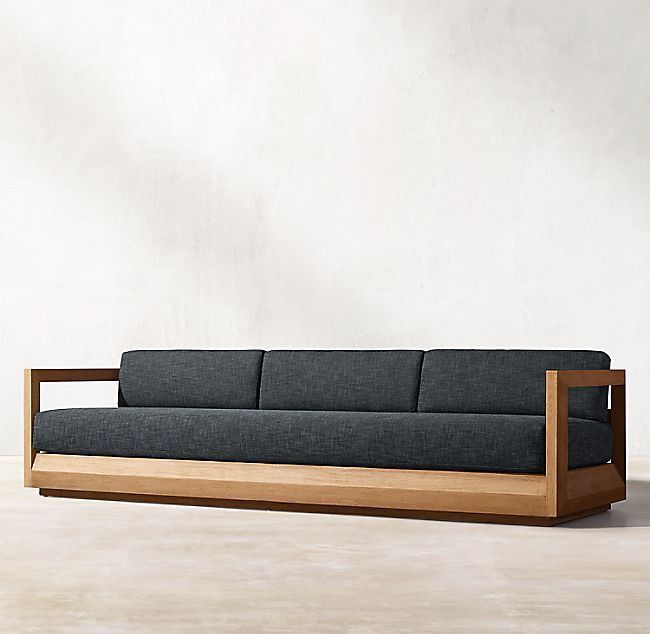3seatersofa: (25, 350, 624, 523)
backrest: (119, 350, 609, 415), (569, 387, 606, 421)
base: (31, 454, 550, 516), (565, 464, 624, 511)
leftarmrest: (546, 369, 625, 516)
leg: (40, 489, 608, 525)
rightarmrest: (24, 369, 118, 485)
seat: (33, 406, 544, 473), (569, 418, 610, 467)
